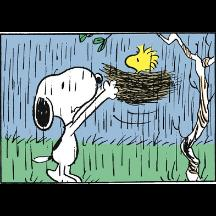snoopy: (32, 64, 120, 184)
